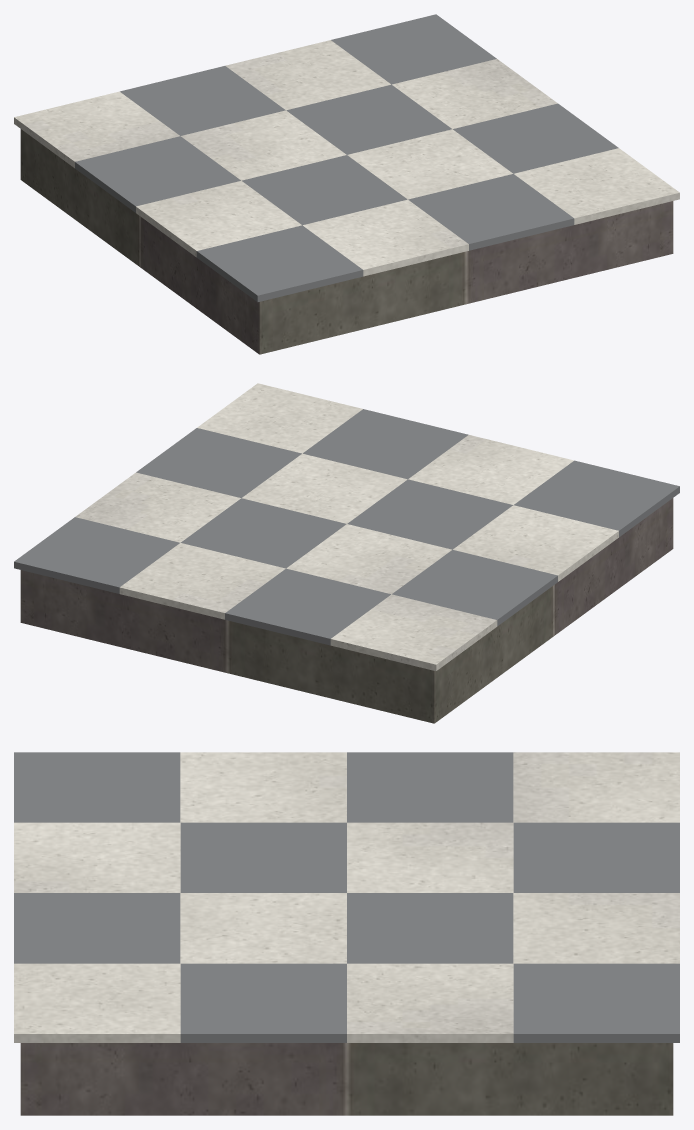
Rendered from floor_marble_g.glb.
The picture shows the model from 3 angles, top to bottom: view 1: azimuth 30°, elevation 25°; view 2: azimuth 150°, elevation 25°; view 3: azimuth 270°, elevation 25°; orthographic projection. The views are drawn at different scales.
Visible parts, largest first — view 1: floor_marble_g_slate, floor_marble_g_marble, floor_marble_g_plinth; view 2: floor_marble_g_marble, floor_marble_g_slate, floor_marble_g_plinth; view 3: floor_marble_g_marble, floor_marble_g_slate, floor_marble_g_plinth.
Part boxes in pixels (x1=…): floor_marble_g_slate: x1=75, y1=14, x2=618, y2=301; floor_marble_g_marble: x1=14, y1=40, x2=679, y2=276; floor_marble_g_plinth: x1=20, y1=129, x2=673, y2=354; floor_marble_g_marble: x1=75, y1=383, x2=618, y2=670; floor_marble_g_slate: x1=14, y1=409, x2=679, y2=645; floor_marble_g_plinth: x1=20, y1=498, x2=673, y2=723; floor_marble_g_marble: x1=14, y1=752, x2=679, y2=1042; floor_marble_g_slate: x1=14, y1=752, x2=679, y2=1042; floor_marble_g_plinth: x1=20, y1=1043, x2=673, y2=1115.
Bounding box in the file's own units: 2 × 0.28 × 2.
Materials: 3 (2 with a texture image).
